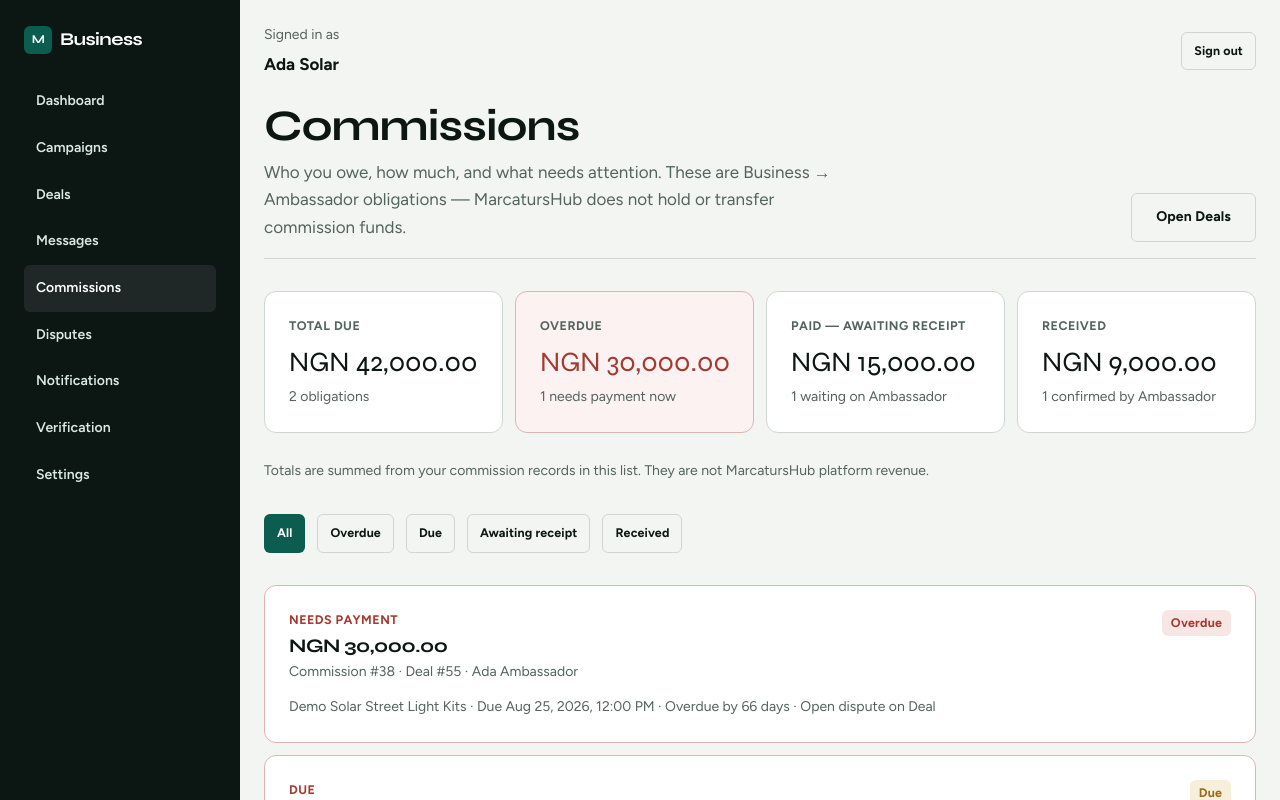
MH-FE-P12 Business commissions desk › filters client-side without inventing unsupported API params
The width and height of the screenshot is (1280, 800).
Expected: the element named "commission obligation summary" is shown, [264,290,1256,433]
Click the button "Overdue" at [356, 533], box [317,514,394,552]
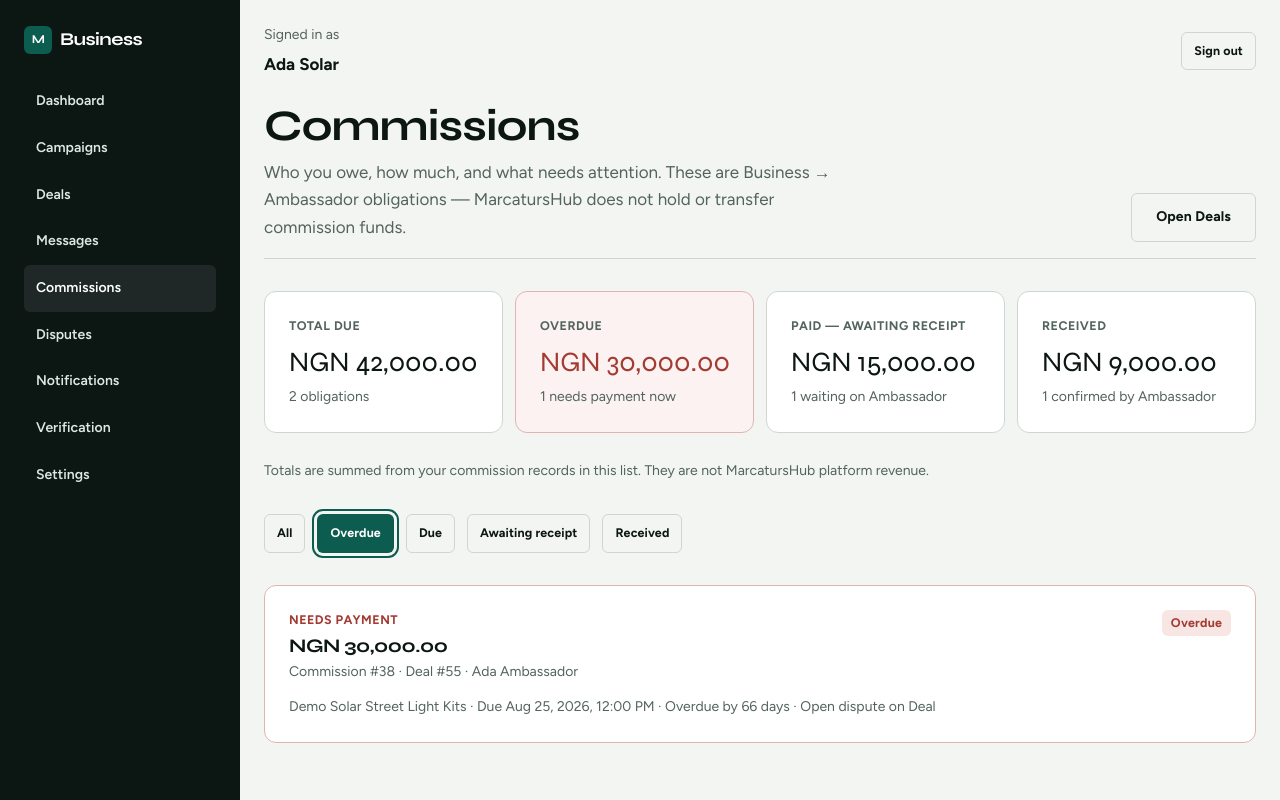
Expected: the text "Commission #38 · Deal #55 · Ada Ambassador" is shown, [289,661,578,684]
Click the button "Awaiting receipt" at [529, 533], box [467,514,590,552]
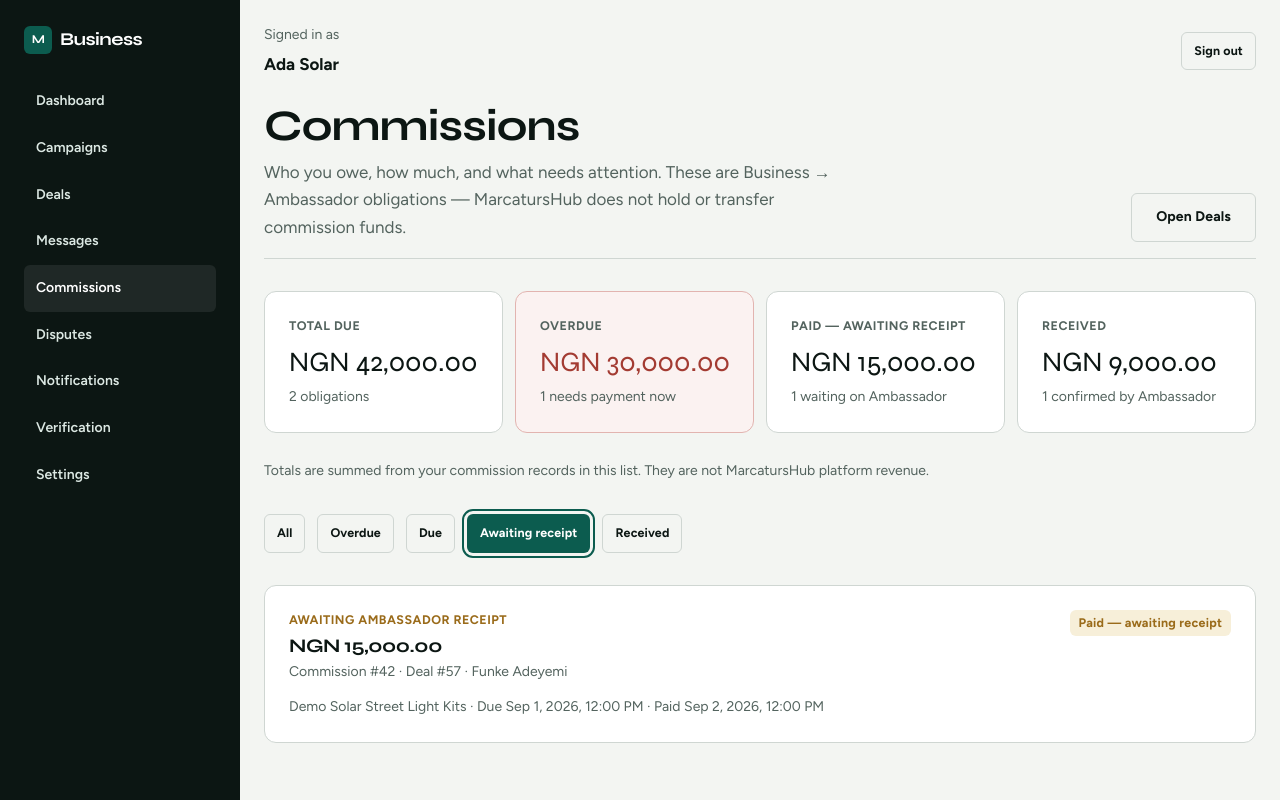
Now the text "Commission #42 · Deal #57 · Funke Adeyemi" is shown, box [289,661,568,684]
